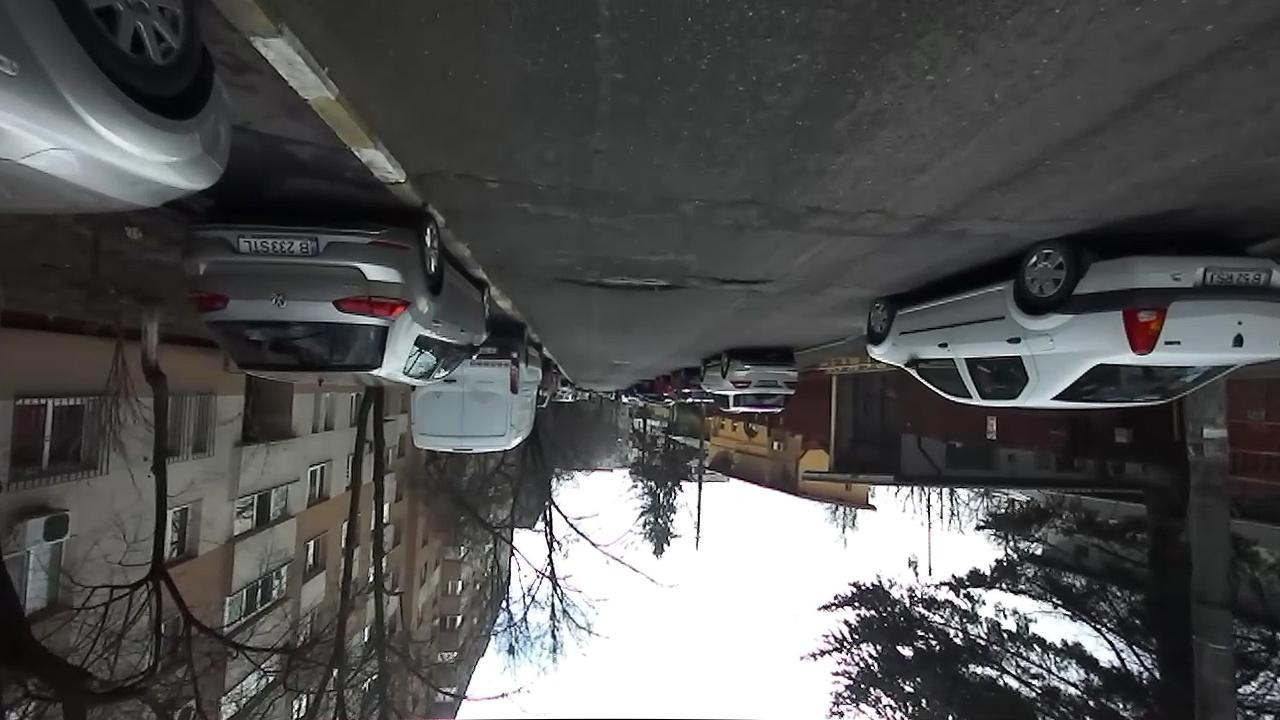pothole: (548, 272, 689, 296), (424, 162, 509, 187), (702, 275, 775, 291)
